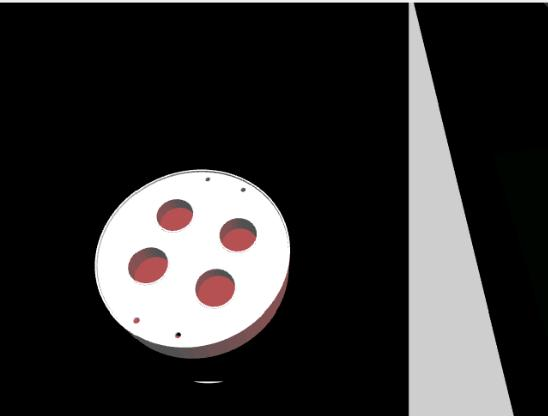hole: (191, 265, 239, 313), (124, 244, 171, 289), (150, 194, 199, 237), (216, 215, 260, 255)
